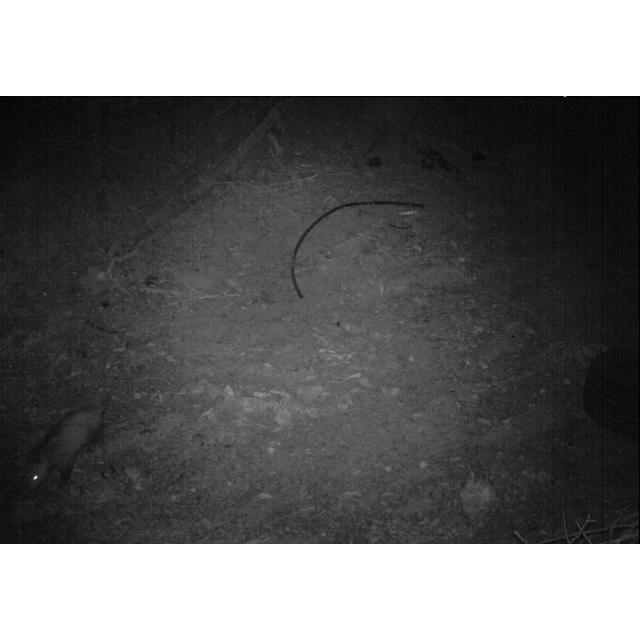animals: (24, 396, 116, 492)
